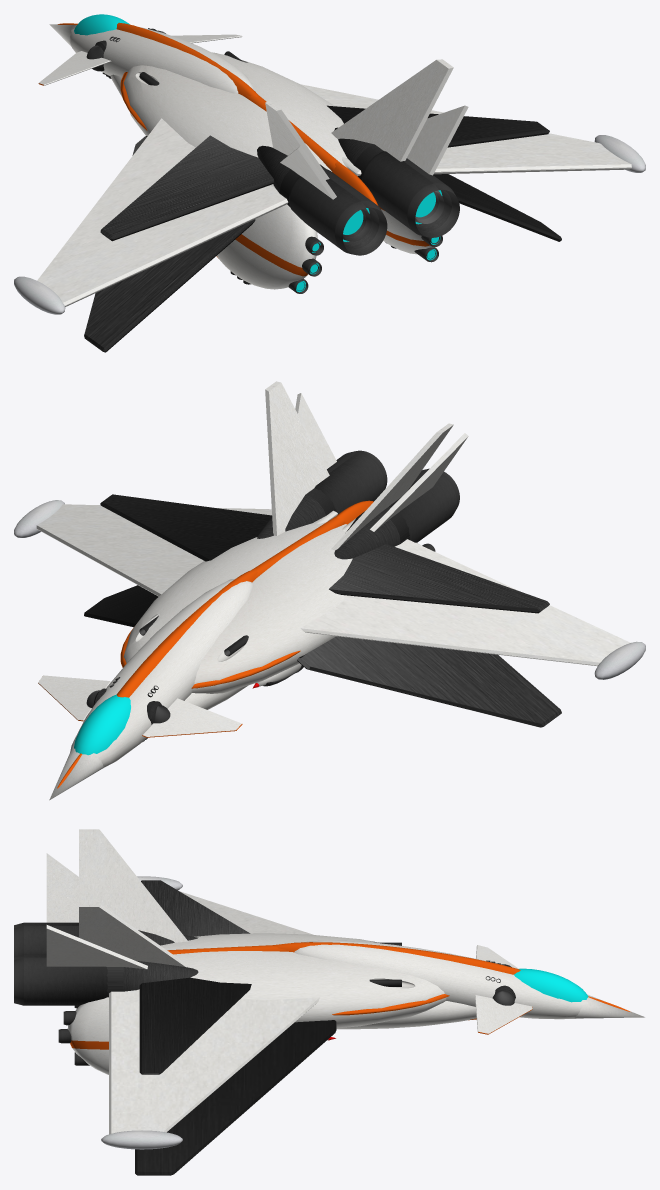
File: Jet.fbx
3 renders of one model, top to bottom at view 1: azimuth 30°, elevation 25°; view 2: azimuth 150°, elevation 25°; view 3: azimuth 270°, elevation 25°, orthographic. The views are drawn at different scales.
Visible parts, largest first — view 1: pSphere2; view 2: pSphere2; view 3: pSphere2.
Part boxes in pixels (x1,y1,x2,y2): pSphere2: [14, 14, 645, 352]; pSphere2: [14, 381, 645, 800]; pSphere2: [14, 829, 644, 1175].
Bounding box in the file's own units: 25 × 9.16 × 25.21.
